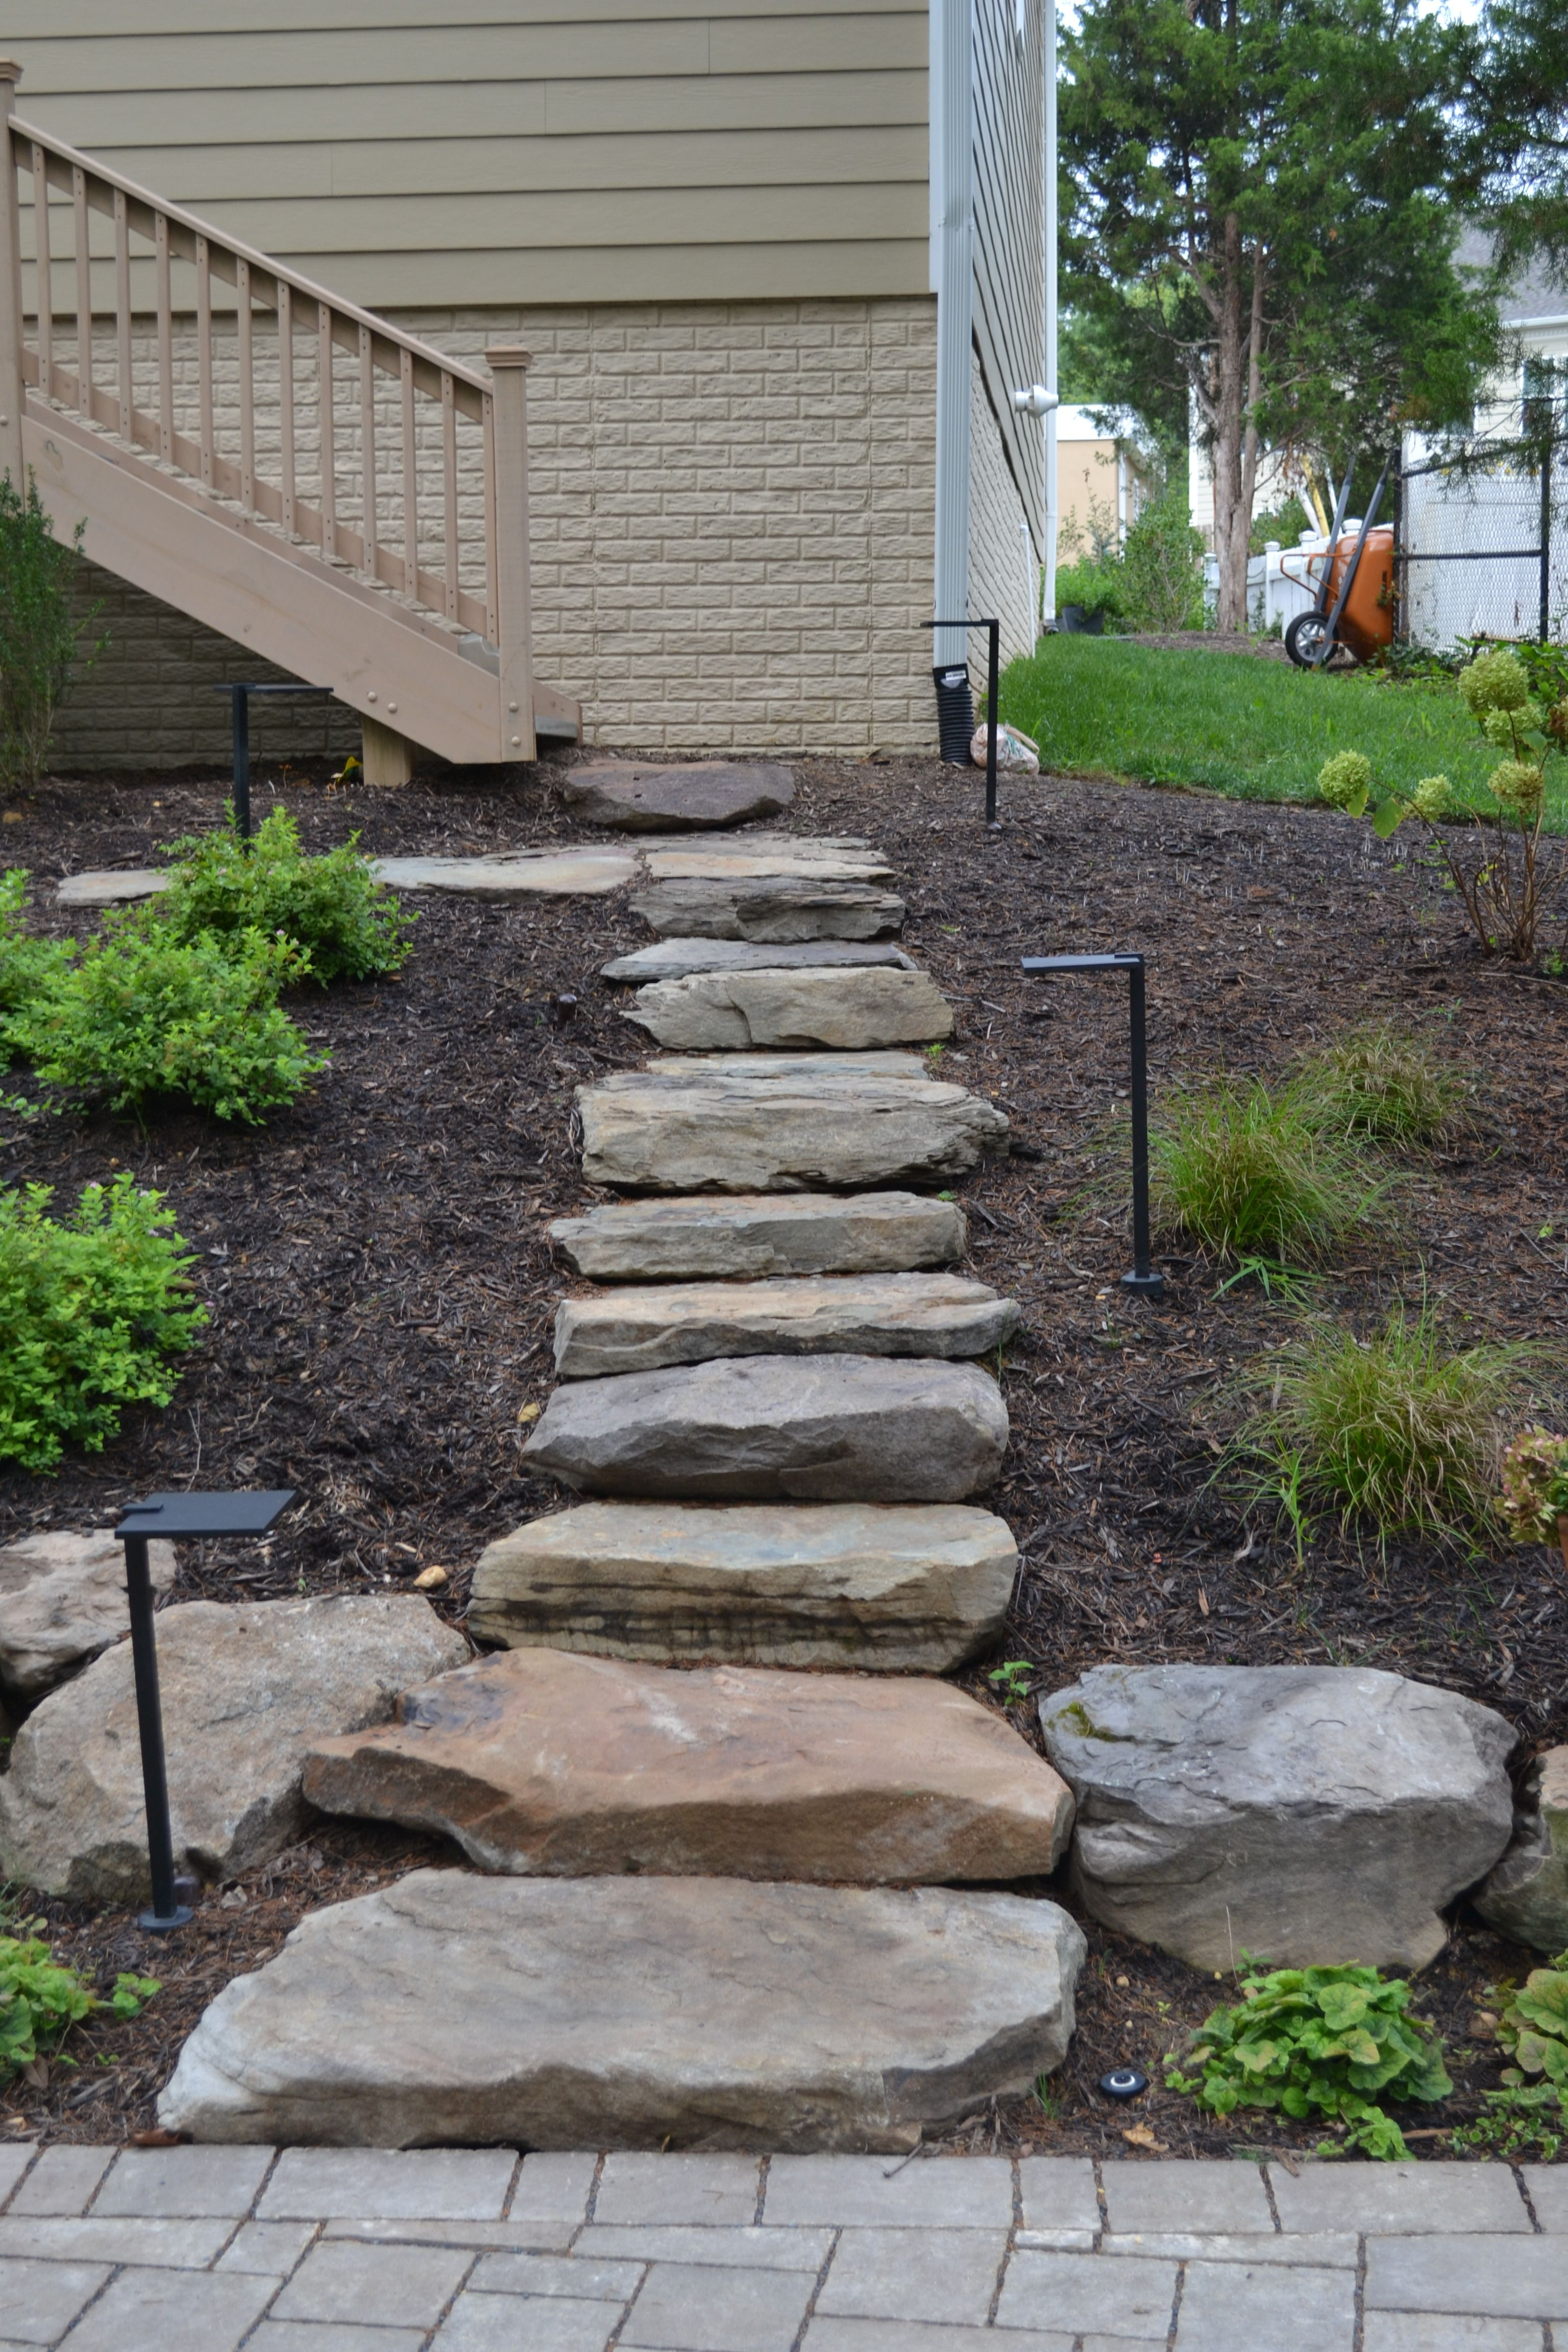upstairs: (525, 1251, 1029, 2187)
